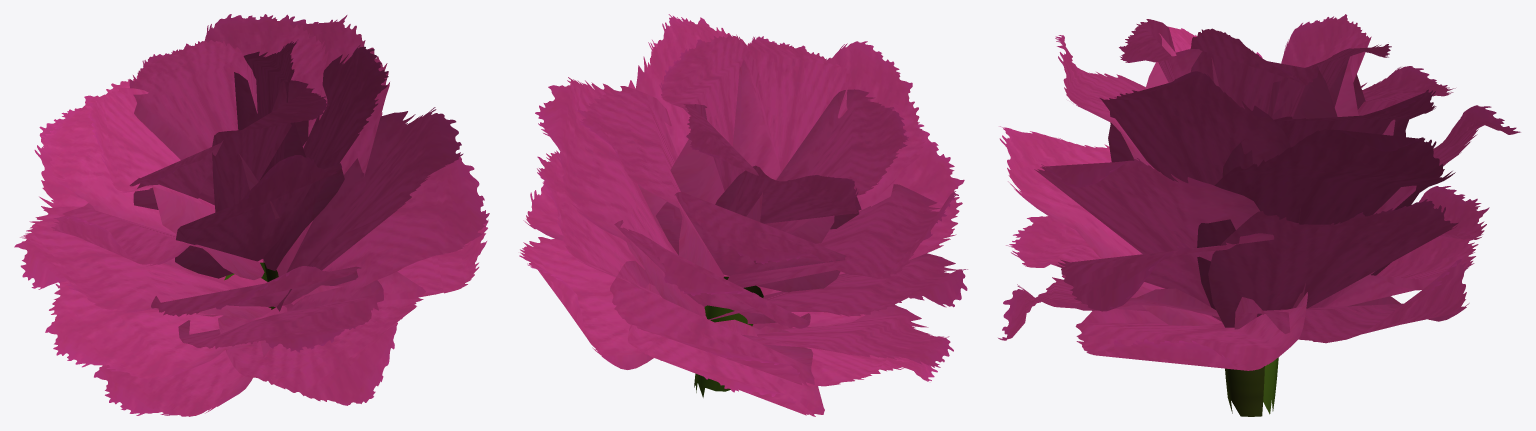
3 views of the same model, side by side, from view 1: azimuth 30°, elevation 25°; view 2: azimuth 150°, elevation 25°; view 3: azimuth 270°, elevation 25° (orthographic). The views are drawn at different scales.
Visible parts, largest first — view 1: 0ce93a5d; view 2: 0ce93a5d; view 3: 0ce93a5d.
Boxes of the visible parts, box(x1,y1,x2,y2) form: 0ce93a5d: box(14, 14, 489, 416); 0ce93a5d: box(519, 14, 967, 416); 0ce93a5d: box(998, 14, 1520, 416).
Bounding box in the file's own units: 0.0655 × 0.0491 × 0.0604.
Materials: 2 (2 with a texture image).
